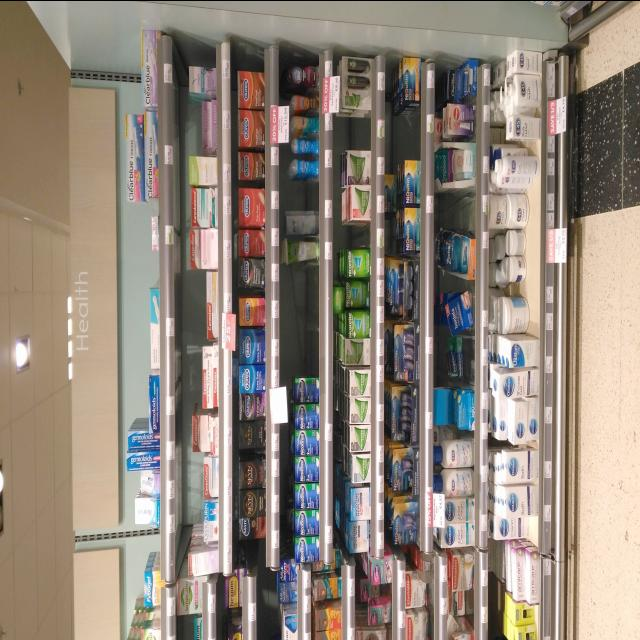empty_space: (286, 269, 318, 369), (440, 194, 476, 224), (290, 181, 318, 199)
